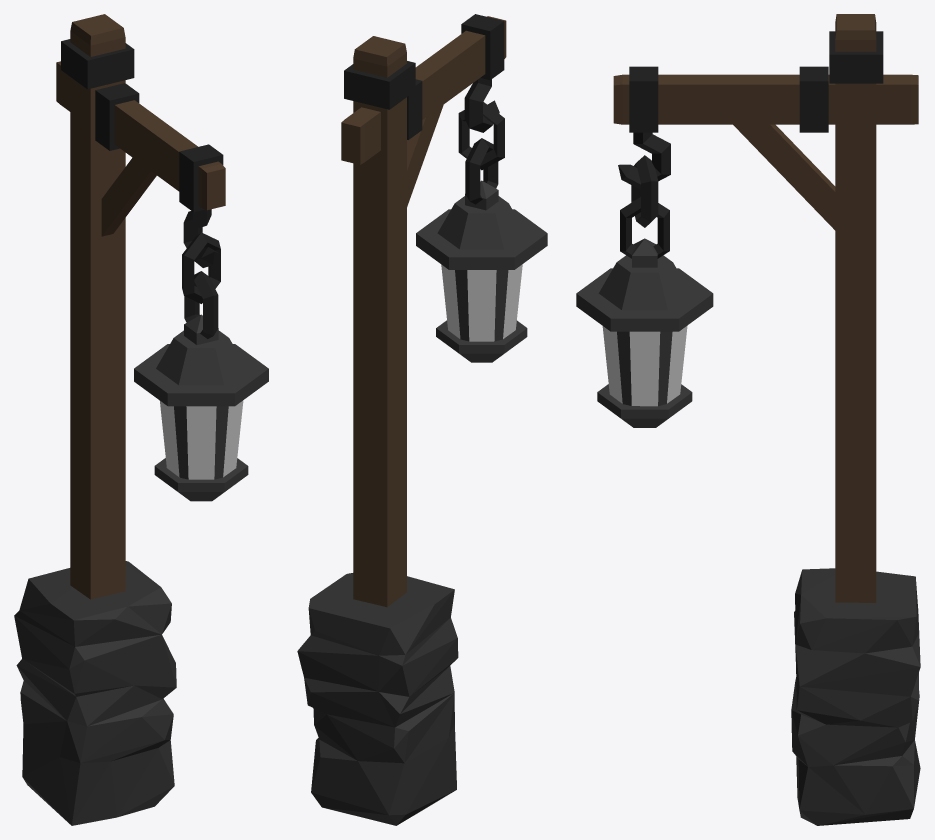
Rendered from lamppost.fbx.
The picture shows the model from 3 angles, left to right: view 1: azimuth 30°, elevation 25°; view 2: azimuth 150°, elevation 25°; view 3: azimuth 270°, elevation 25°; orthographic projection. The views are drawn at different scales.
Parts seen in each view (by area): view 1: lamppost, glass; view 2: lamppost, glass; view 3: lamppost, glass.
Boxes of the visible parts, left/top/right/bottom form: lamppost: left=14, top=14, right=268, bottom=825; glass: left=160, top=400, right=243, bottom=479; lamppost: left=297, top=14, right=547, bottom=825; glass: left=441, top=264, right=522, bottom=341; lamppost: left=576, top=14, right=920, bottom=825; glass: left=602, top=325, right=687, bottom=406.
Size of the model in its own units: 0.6052 by 4.11 by 1.64.
